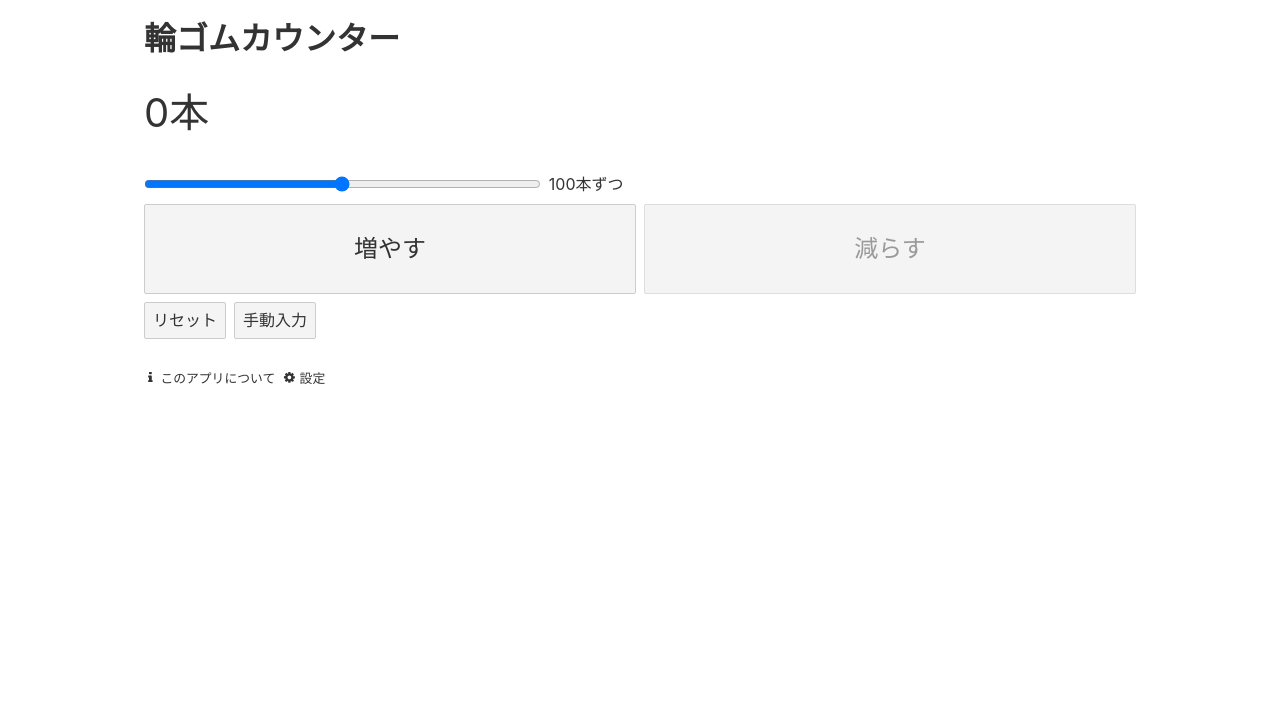
it: Counter and buttons › Reset button clears the counter value
This screenshot has width=1280, height=720.
Click the button with test id "increase-btn" at (390, 249), box [144,204,636,294]
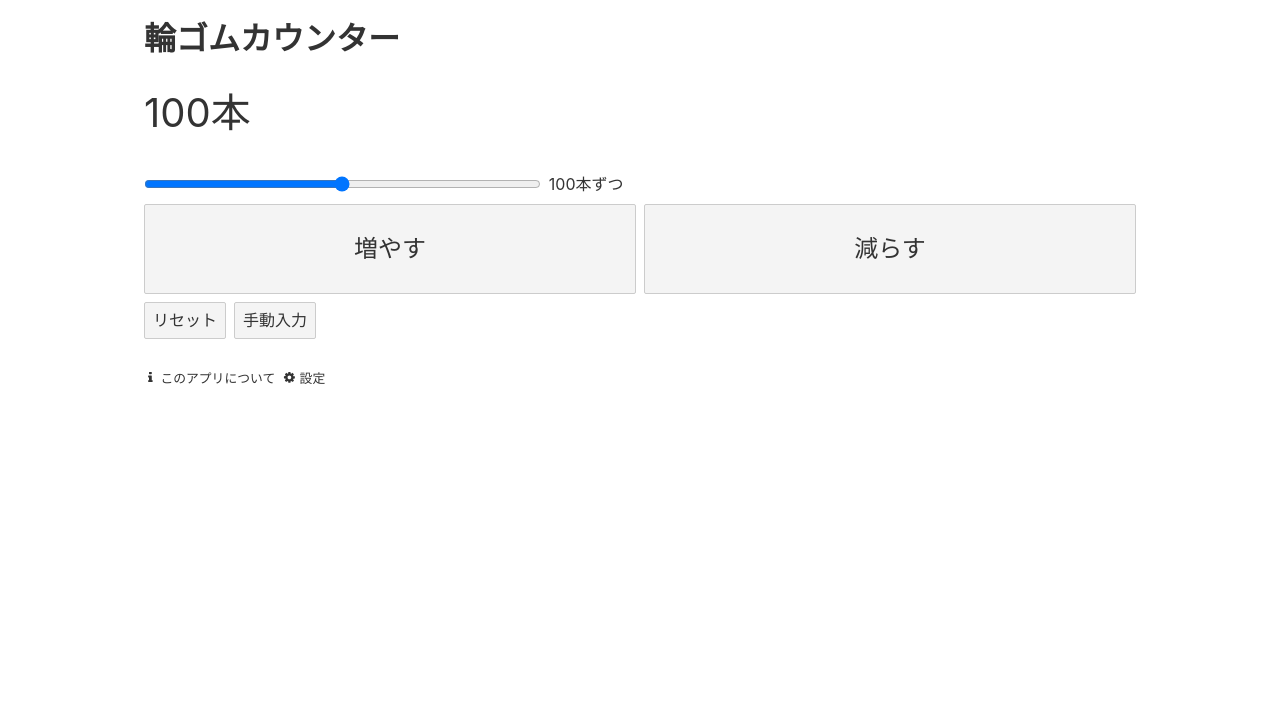
Now the element with test id "counter-value" no longer shows "0"
Click the button with test id "counter-reset-btn" at (185, 320), box [144,302,226,339]
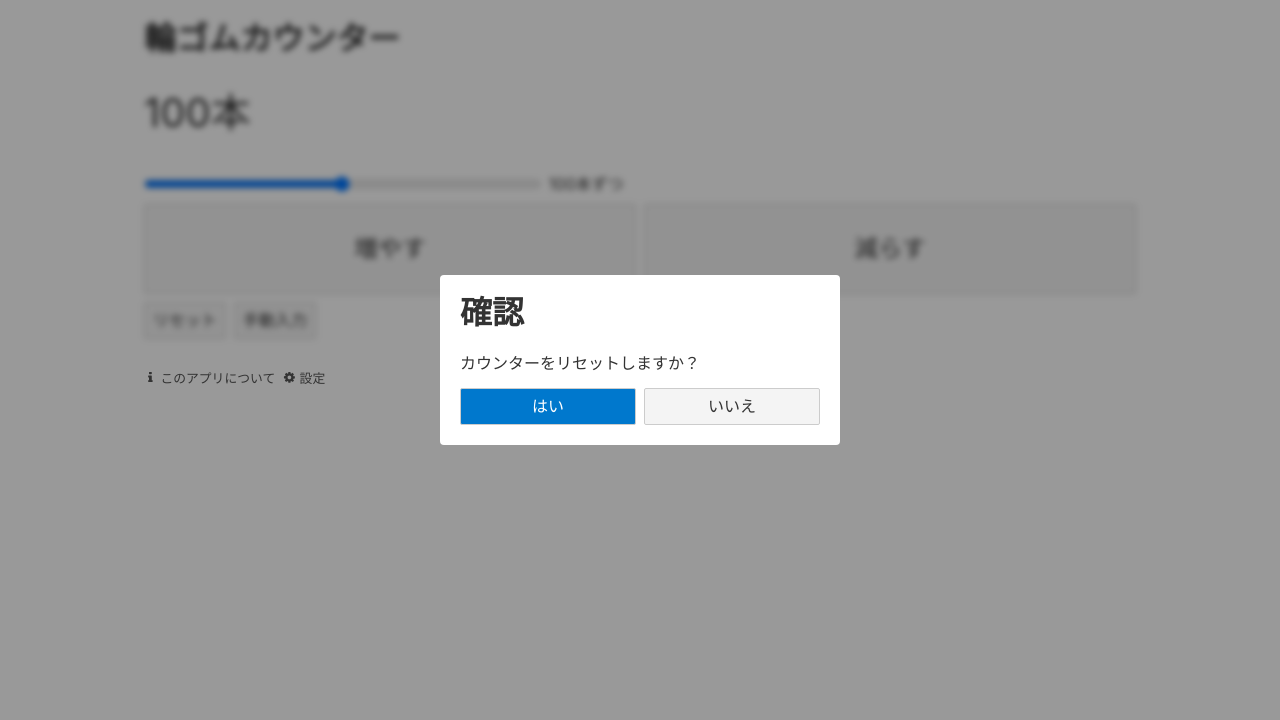
Click the button with test id "confirm-yes" at (548, 406), box [460,388,636,424]
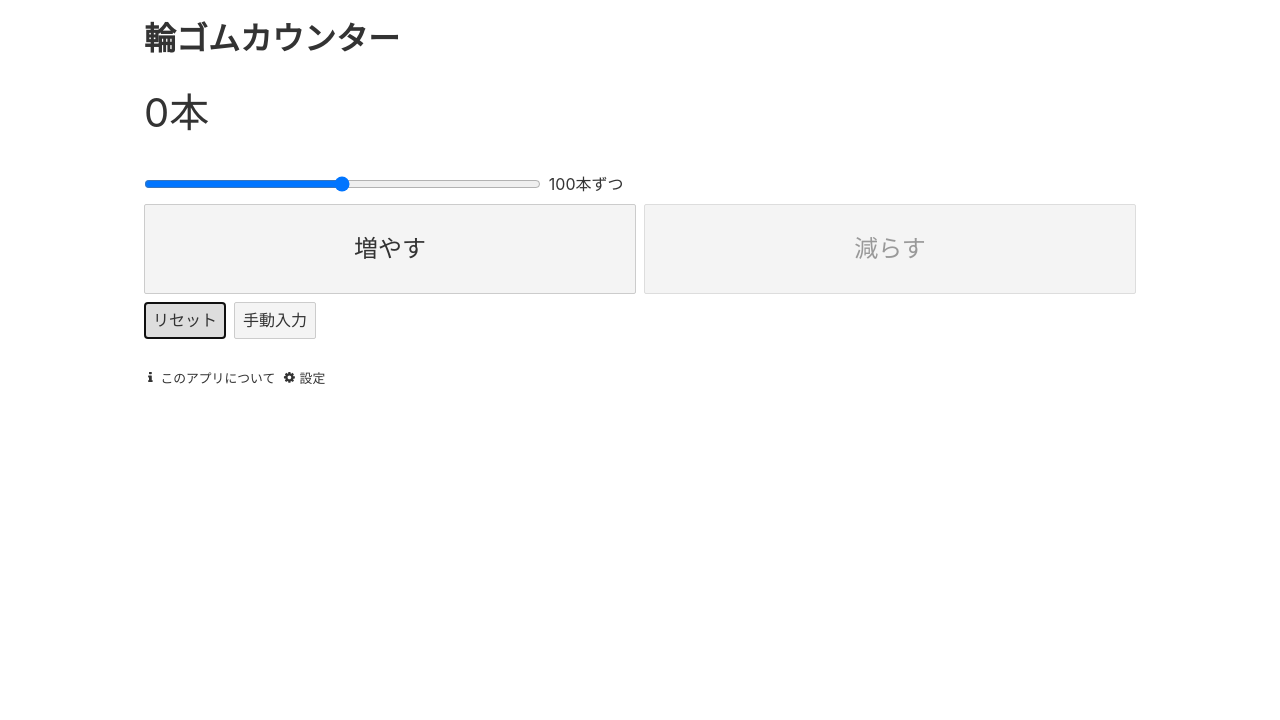
Now the text with test id "counter-value" reads "0", box [144,88,169,137]
